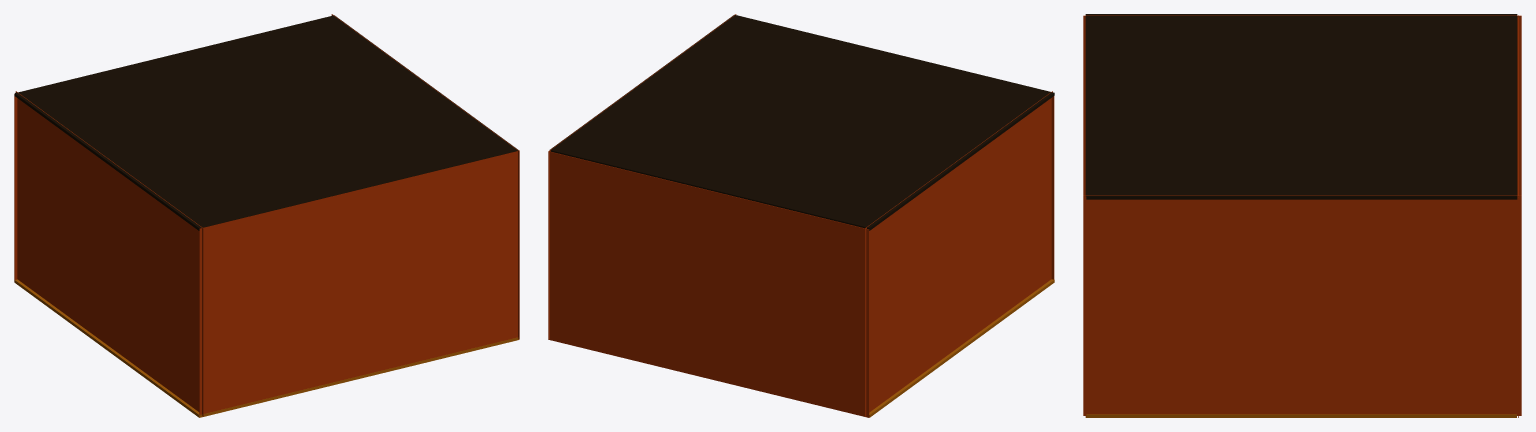
The model's file is world.obj.
3 views of the same model, side by side, from view 1: azimuth 30°, elevation 25°; view 2: azimuth 150°, elevation 25°; view 3: azimuth 270°, elevation 25° (orthographic). The views are drawn at different scales.
Parts seen in each view (by area): view 1: Cube.001, Cube.002, Cube; view 2: Cube.001, Cube.002, Cube; view 3: Cube.001, Cube.002, Cube.
Boxes of the visible parts, box(x1,y1,x2,y2) form: Cube.001: box(14, 14, 519, 416); Cube.002: box(14, 15, 518, 230); Cube: box(14, 279, 518, 417); Cube.001: box(548, 14, 1054, 417); Cube.002: box(550, 14, 1054, 230); Cube: box(869, 279, 1054, 417); Cube.001: box(1083, 15, 1521, 417); Cube.002: box(1085, 14, 1517, 199); Cube: box(1085, 414, 1516, 417).
Bounding box in the file's own units: 51.2 × 28.94 × 51.91.
